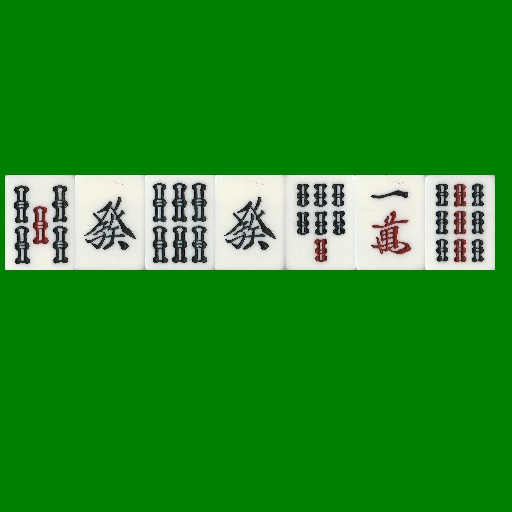1m: (355, 175, 425, 270)
5s: (5, 175, 75, 270)
6s: (145, 175, 215, 270)
7s: (285, 175, 355, 270)
9s: (425, 175, 495, 270)
hatsu: (75, 175, 145, 270), (215, 175, 285, 270)
